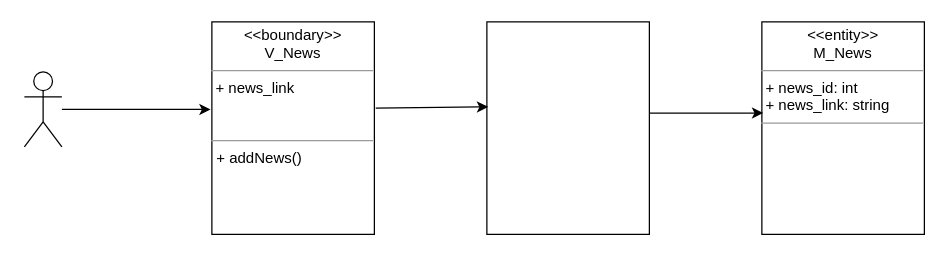
Image size: 946x256. Some labels were removed from this diagram. Here are the shapes that lost their labels. From the top down, the box of each, then its label:
(23, 71, 62, 147): Admin
(486, 21, 649, 234): < <control >> C_News + addNews()
